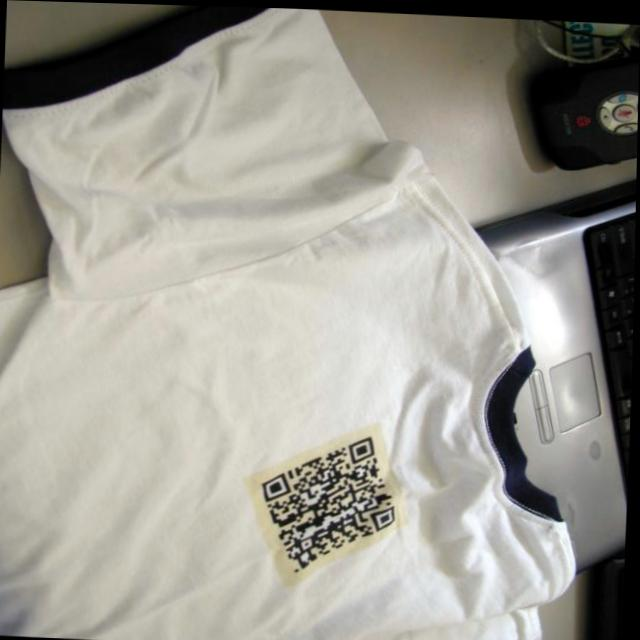qrcode: (261, 431, 400, 575)
